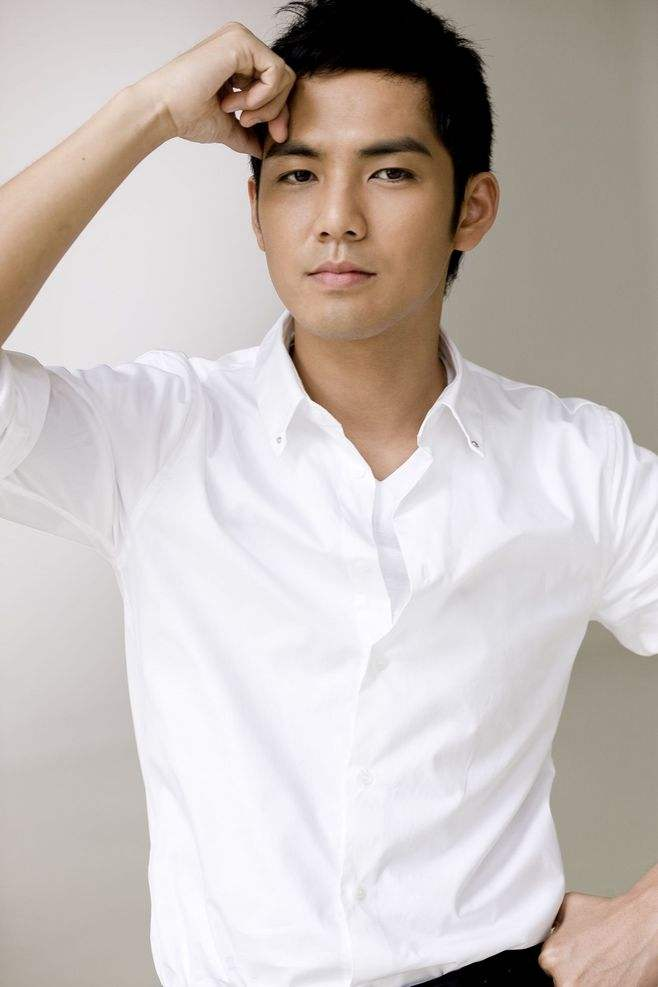person: (140, 19, 561, 935)
